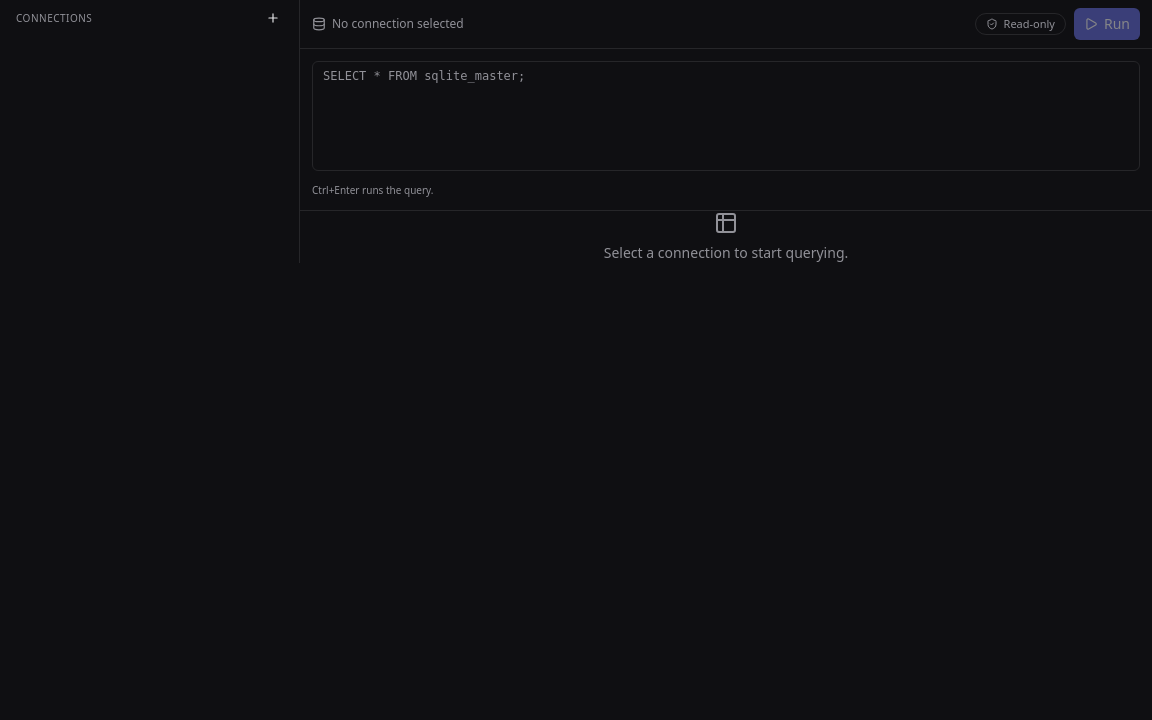
Test: DatabasePage with nothing connected › opens the add-connection dialog from the empty pane
Click the button named "Add connection". click: (273, 18)
box: [263,8,283,28]
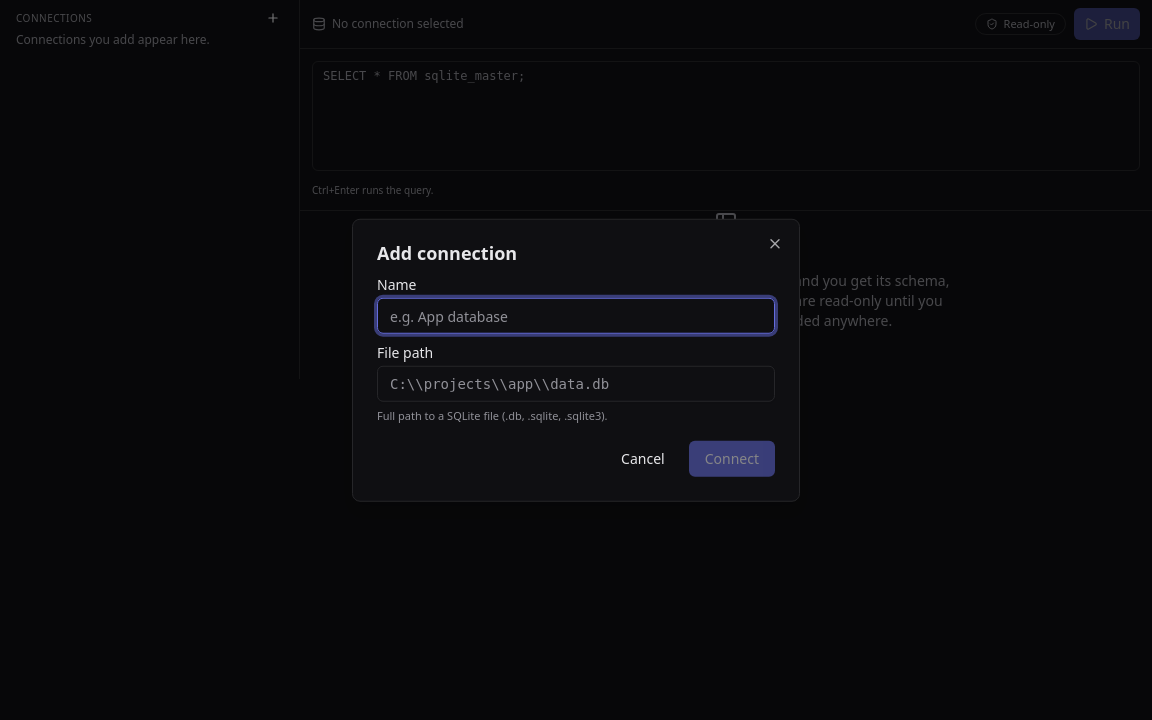
Now the field labelled "File path" is shown, box [377,366,775,402]
